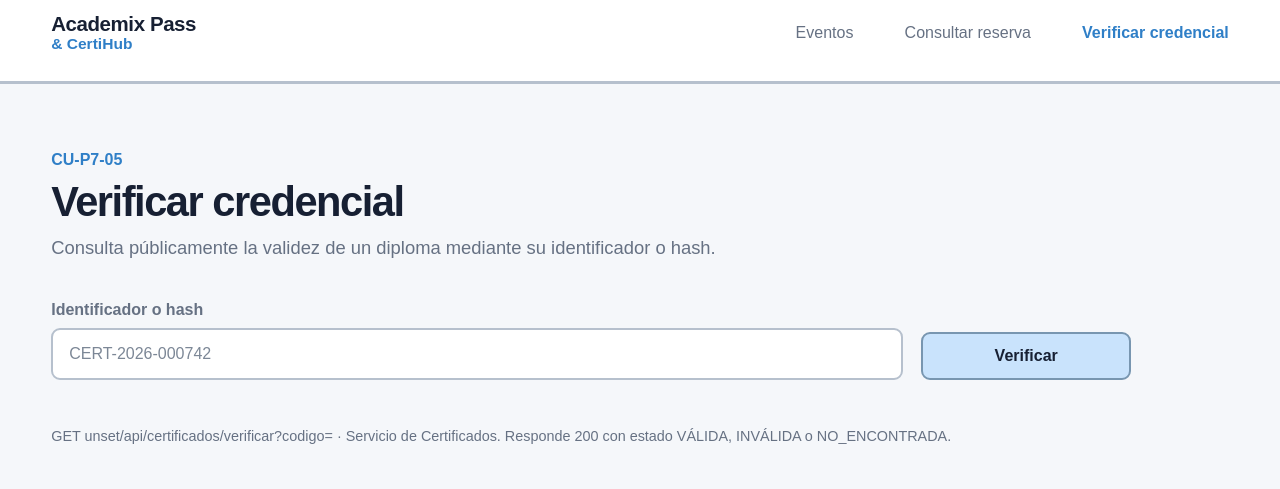
Scenario: Verificación de credencial › valida el formato antes de consultar
This screenshot has width=1280, height=489.
Type "??" into the field labelled "Identificador o hash" at (477, 354), box 51,328 -> 903,380
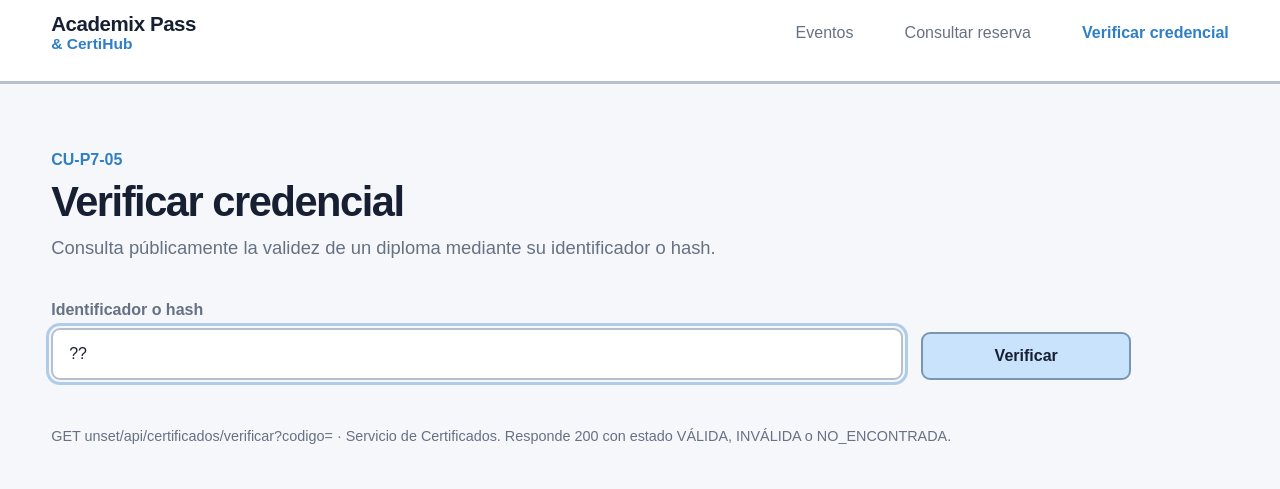
Click the button "Verificar" at (1026, 356), box 921,332 -> 1131,380
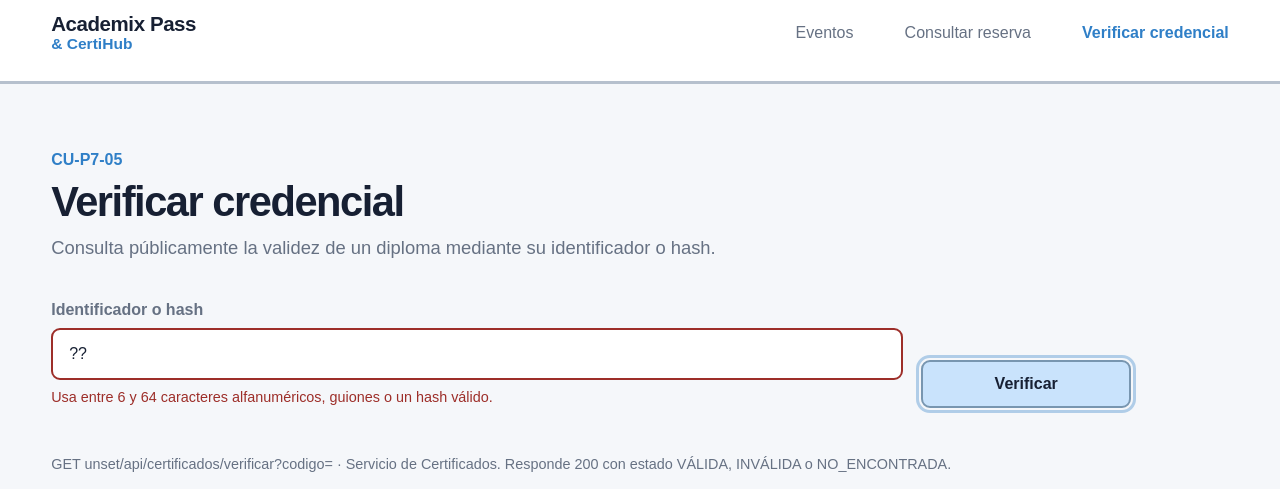
Check: the text "Usa entre 6 y 64 caracteres alfanuméricos, guiones o un hash válido." is shown, box 51,389 -> 493,405
